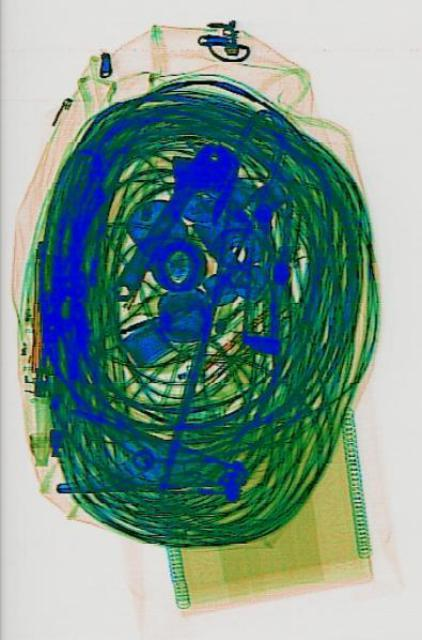Pliers: (52, 389, 240, 523)
Wrench: (92, 108, 241, 322)
